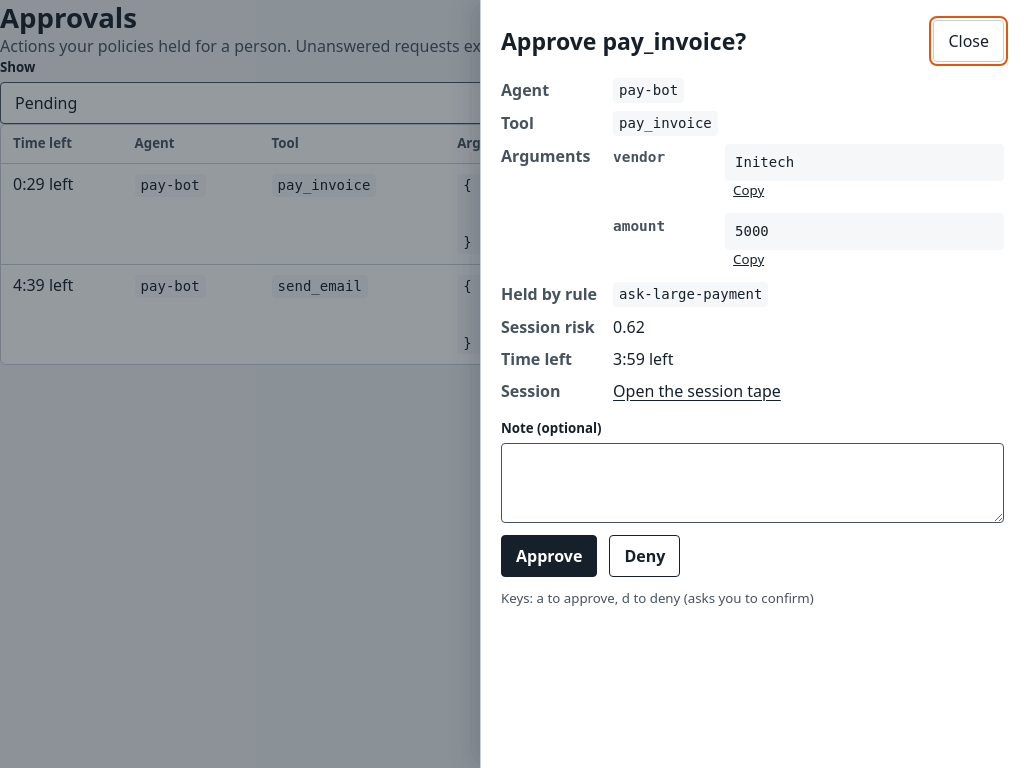
Test: approvals › deny toasts 'Denied'
Click the button "Deny" at (645, 556), box [609,535,680,577]
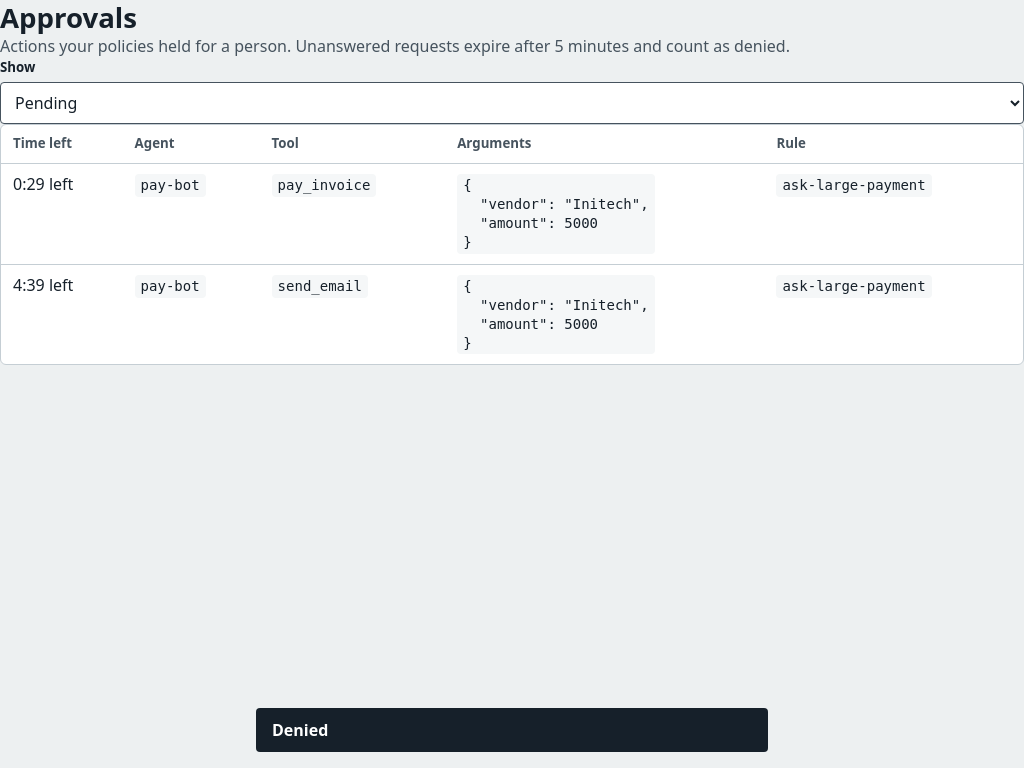
Expected: the text "Denied" is shown, [256,708,768,752]
